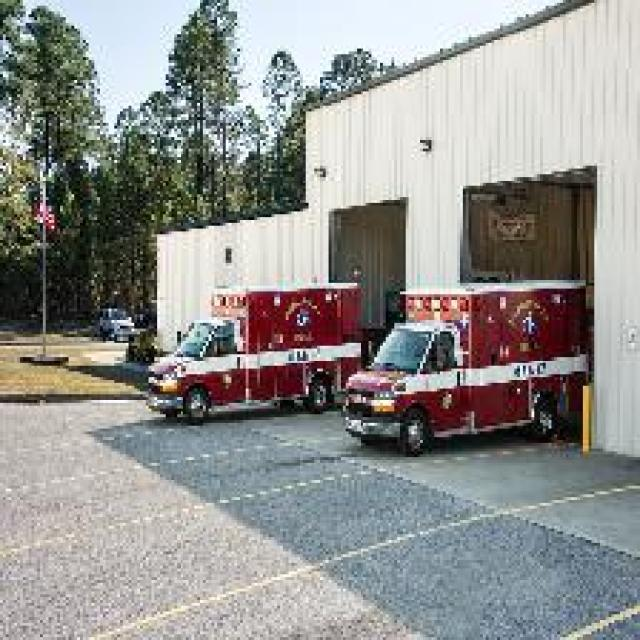emergency: (342, 281, 592, 454), (154, 280, 368, 420)
